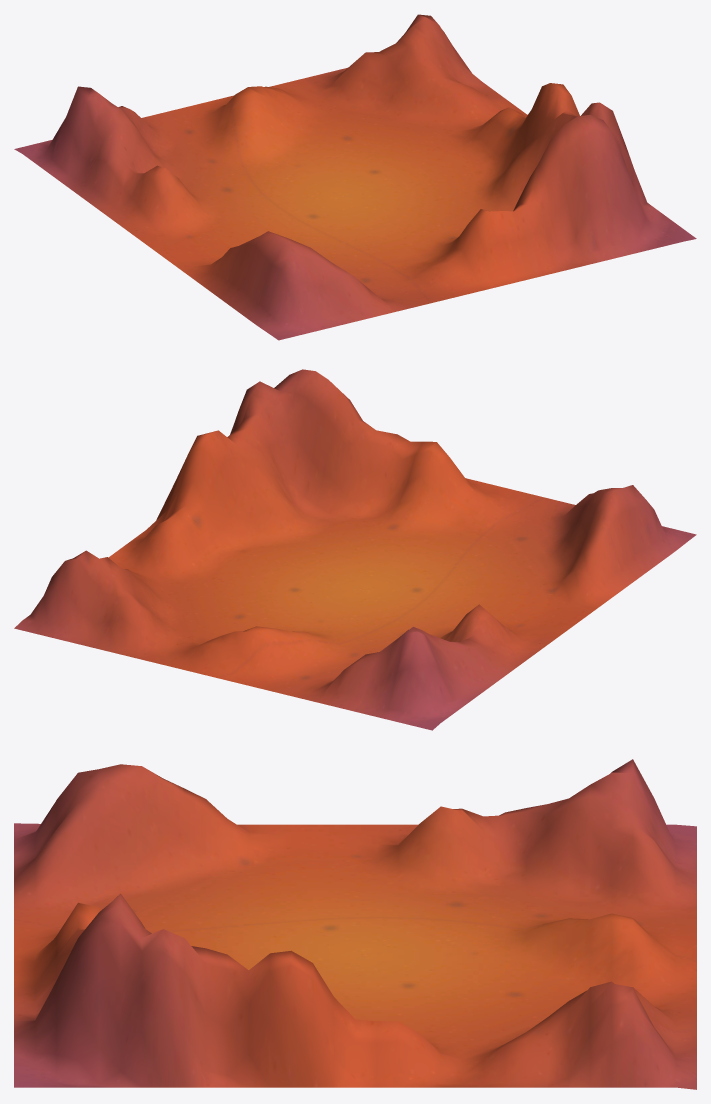
File: terrain.gltf
3 views of the same model, one above another, from view 1: azimuth 30°, elevation 25°; view 2: azimuth 150°, elevation 25°; view 3: azimuth 270°, elevation 25° (orthographic). The views are drawn at different scales.
Visible parts, largest first — view 1: terrain; view 2: terrain; view 3: terrain.
Part boxes in pixels (<box>): terrain: <box>14,14,696,340</box>; terrain: <box>14,369,696,730</box>; terrain: <box>14,759,696,1089</box>.
Size of the model in its own units: 0.63 by 0.1656 by 0.69.
1 material, 1 textured.
